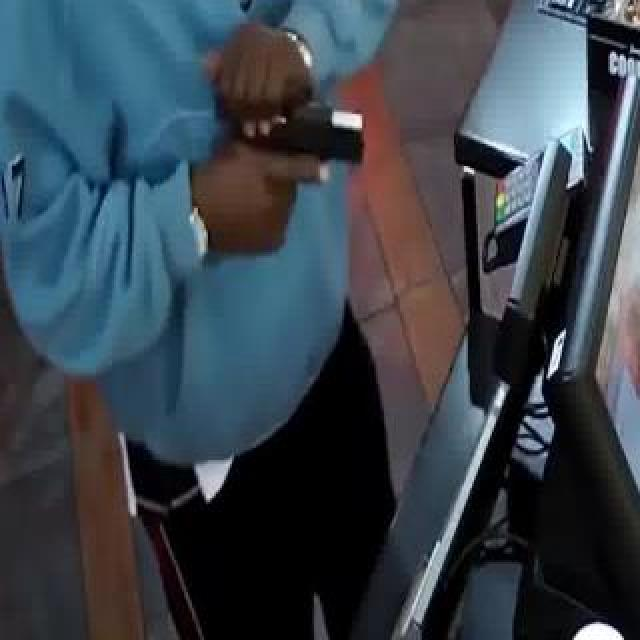Guns: (212, 78, 384, 192)
